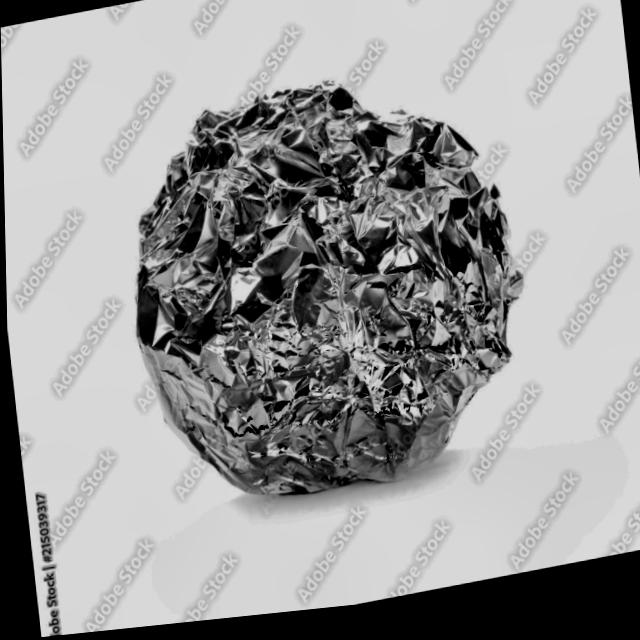Foil: (82, 34, 555, 566)
